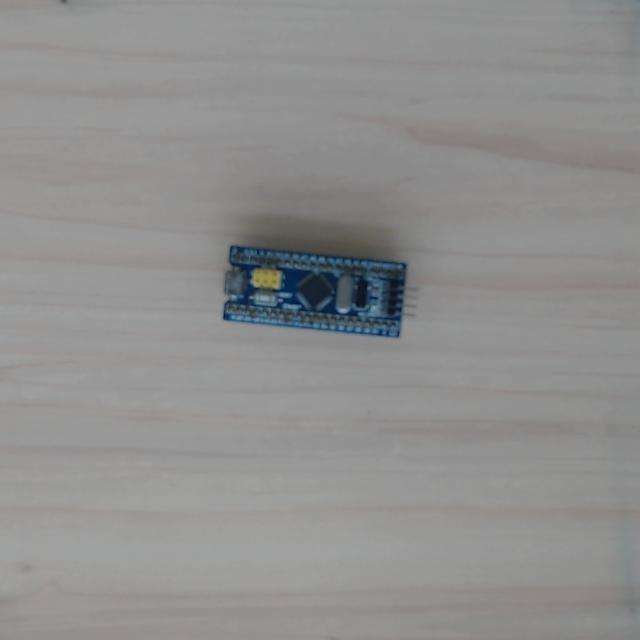STM32-Bluepill: (221, 244, 407, 338)
